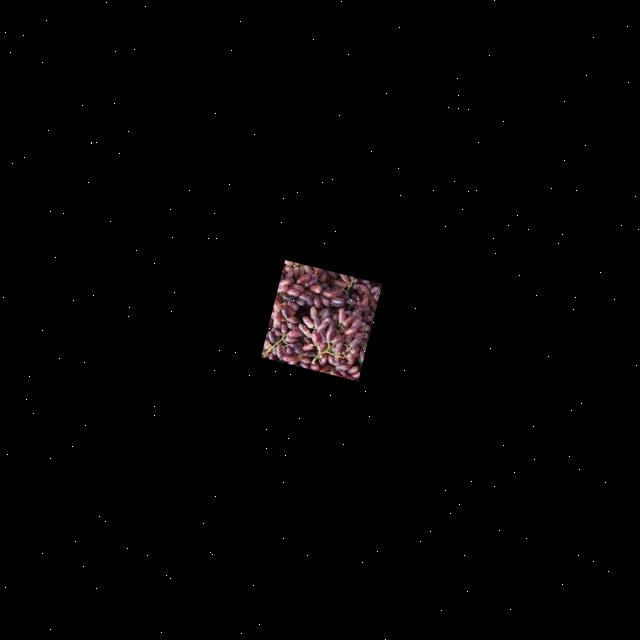grape: (260, 260, 380, 380)
